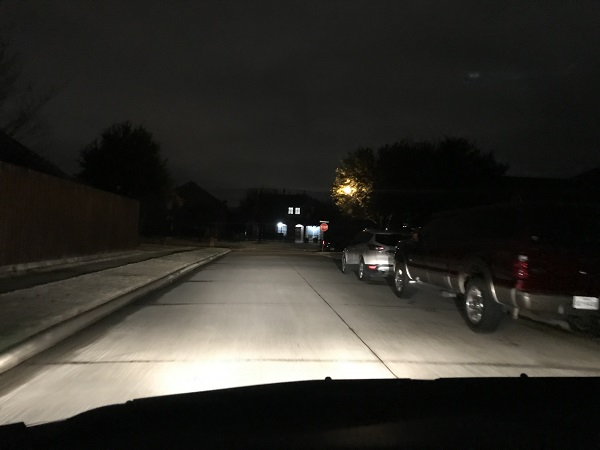car: (341, 225, 394, 282)
stop sign: (318, 220, 329, 233)
truck: (394, 225, 600, 335)
